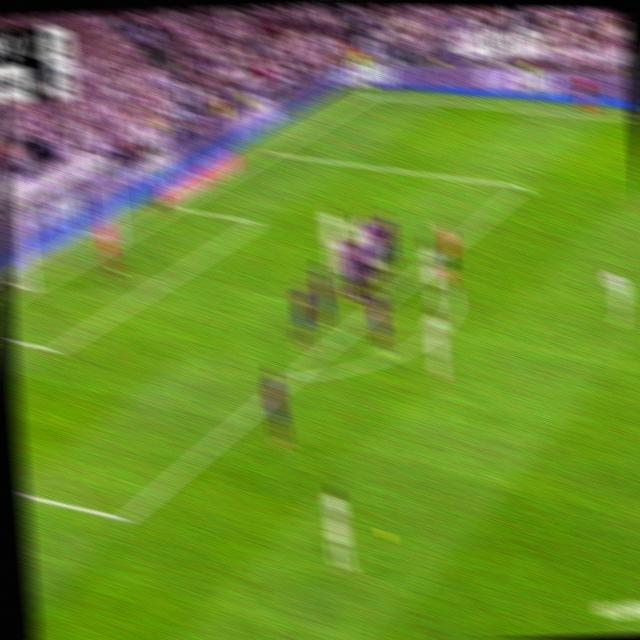bigarea_bottom_inner: (113, 501, 137, 537)
bigarea_top_inner: (512, 172, 533, 199)
bigarea_top_outter: (263, 142, 282, 161)
bottom_arc_area_intersection: (285, 362, 305, 389)
corner: (358, 87, 378, 103)
smallarea_bottom_inner: (47, 336, 67, 363)
smallarea_top_inner: (247, 209, 266, 233)
